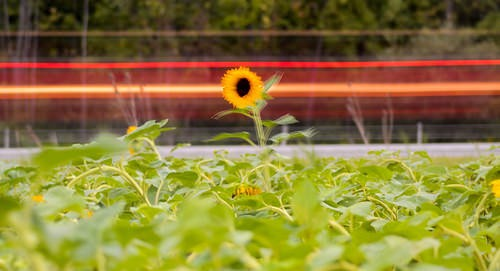flower: (219, 66, 265, 110)
